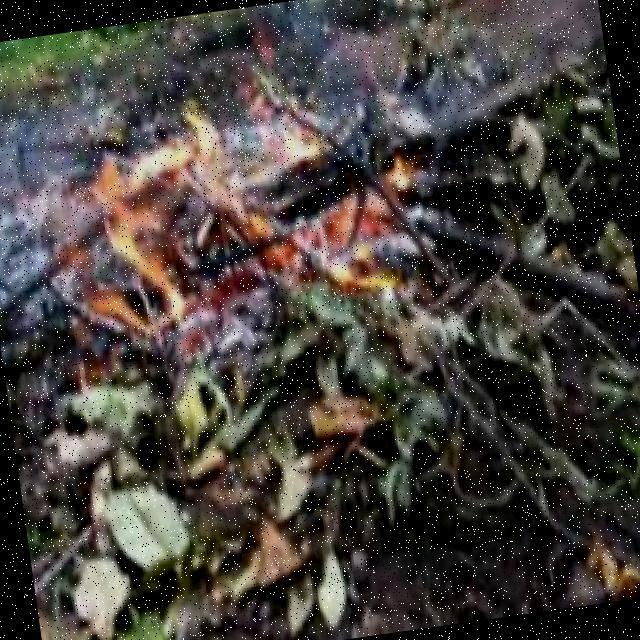Fire: (26, 70, 438, 350)
